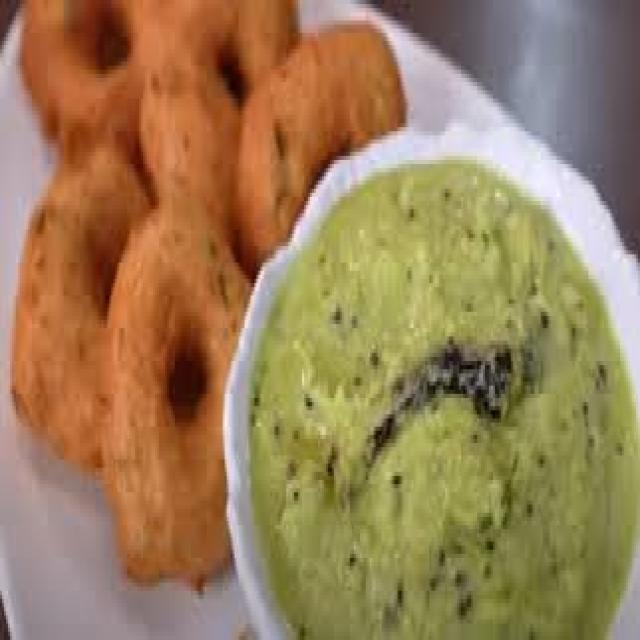MEDU VADA: (101, 185, 248, 578), (10, 123, 149, 464)
